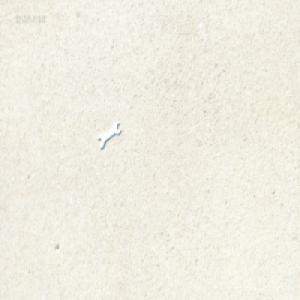Wrench: (97, 120, 120, 148)
